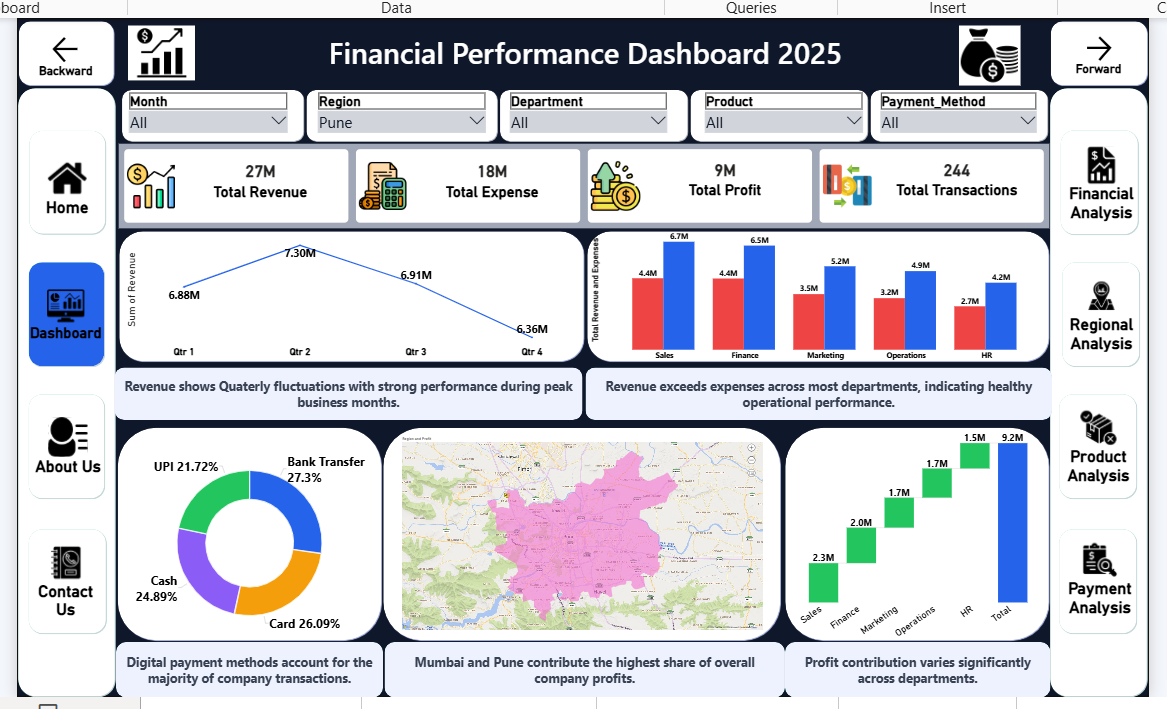

The page's visual inventory and layout, read from the dashboard file:
{"tool":"powerbi","page":{"name":"Dashboard","canvas":[5000,3000],"ordinal":1},"visuals":[{"type":"shape","box":[444,6.6,4122.3,298.2],"z":0},{"type":"shape","box":[0,304.9,437.4,2697.4],"z":1000},{"type":"shape","box":[4559.8,304.9,437.4,2697.4],"z":2000},{"type":"shape","box":[0,6,435.4,298.2],"z":3000},{"type":"shape","box":[4557.1,6,441.4,298.2],"z":4000},{"type":"shape","box":[1623.7,2757.1,1769.6,245.2],"z":5000},{"type":"image","box":[490.9,35.5,295.7,242.5],"z":6000},{"type":"cardVisual","fields":{"Data":["Sum(Finance_dataset.Revenue)","Sum(Finance_dataset.Expense)","Sum(Finance_dataset.Profit)","CountNonNull(Finance_dataset.Transaction_ID)"]},"box":[444,550.1,4122.3,384.4],"z":7000},{"type":"shape","box":[437.4,2757.1,1179.7,245.2],"z":8000},{"type":"shape","box":[430.8,1544.2,2067.8,232],"z":9000},{"type":"shape","box":[1610.5,1802.7,1769.6,954.4],"z":10000},{"type":"shape","box":[444,934.5,2067.8,589.9],"z":11000},{"type":"shape","box":[2511.8,934.5,2054.5,589.9],"z":12000},{"type":"lineChart","fields":{"Y":["Sum(Finance_dataset.Revenue)"],"Category":["Finance_dataset.Date.Variation.Date Hierarchy.Quarter"]},"box":[470.6,947.7,2014.8,550.1],"z":13000},{"type":"clusteredColumnChart","fields":{"Category":["Finance_dataset.Department"],"Y":["Sum(Finance_dataset.Expense)","Sum(Finance_dataset.Revenue)"]},"box":[2525.1,921.2,2047.9,603.1],"z":14000},{"type":"shape","box":[2511.8,1544.2,2061.2,232],"z":15000},{"type":"filledMap","fields":{"Category":["Finance_dataset.Region"],"Series":["Finance_dataset.Profit"]},"box":[1696.7,1849.1,1603.9,861.6],"z":16000},{"type":"shape","box":[437.4,1802.7,1179.7,954.4],"z":17000},{"type":"shape","box":[3393.3,2757.1,1173.1,245.2],"z":18000},{"type":"shape","box":[3386.7,1802.7,1179.7,954.4],"z":19000},{"type":"donutChart","fields":{"Category":["Finance_dataset.Payment_Method"],"Y":["Sum(Finance_dataset.Revenue)"]},"box":[510.3,1822.6,1033.9,994.1],"z":20000},{"type":"waterfallChart","fields":{"Category":["Finance_dataset.Department"],"Y":["Sum(Finance_dataset.Profit)"]},"box":[3426.4,1802.7,1113.4,954.4],"z":21000},{"type":"shape","box":[457.3,311.5,815.2,238.6],"z":22000},{"type":"shape","box":[1272.5,311.5,855,238.6],"z":23000},{"type":"shape","box":[2127.4,311.5,841.7,238.6],"z":24000},{"type":"shape","box":[2969.1,311.5,795.3,238.6],"z":25000},{"type":"shape","box":[3764.4,311.5,795.3,238.6],"z":26000},{"type":"slicer","fields":{"Values":["Finance_dataset.Date.Variation.Date Hierarchy.Month"]},"box":[483.8,324.7,722.4,225.3],"z":27000},{"type":"slicer","fields":{"Values":["Finance_dataset.Region"]},"box":[1320.9,322.9,763.2,227.5],"z":28000},{"type":"slicer","fields":{"Values":["Finance_dataset.Department"]},"box":[2167.2,324.7,715.8,232],"z":29000},{"type":"slicer","fields":{"Values":["Finance_dataset.Product"]},"box":[3030.8,322.9,719.2,242.2],"z":30000},{"type":"slicer","fields":{"Values":["Finance_dataset.Payment_Method"]},"box":[3801.4,322.9,711.8,242.2],"z":31000},{"type":"image","box":[4162.1,33.1,271.7,265.1],"z":32000},{"type":"textbox","box":[1206.2,59.6,2611.3,198.8],"z":33000},{"type":"actionButton","box":[33.1,19.9,364.5,245.2],"z":34000},{"type":"actionButton","box":[4606.1,19.9,344.6,238.6],"z":35000},{"type":"shape","box":[46.4,1073.7,344.6,470.6],"z":36000},{"type":"shape","box":[46.4,490.4,351.3,470.6],"z":37000},{"type":"actionButton","box":[46.4,563.3,351.3,371.1],"z":38000},{"type":"shape","box":[46.4,2253.4,351.3,470.6],"z":39000},{"type":"shape","box":[46.4,1656.9,344.6,470.6],"z":40000},{"type":"actionButton","box":[46.4,1073.7,338,470.6],"z":41000},{"type":"actionButton","box":[46.4,1656.9,357.9,470.6],"z":42000},{"type":"actionButton","box":[46.4,2253.4,338,470.6],"z":43000},{"type":"shape","box":[4606.1,490.4,351.3,470.6],"z":44000},{"type":"shape","box":[4612.8,1073.7,351.3,470.6],"z":45000},{"type":"shape","box":[4599.5,1656.9,351.3,470.6],"z":46000},{"type":"shape","box":[4599.5,2253.4,351.3,470.6],"z":47000},{"type":"actionButton","box":[4619.4,497.1,344.6,470.6],"z":48000},{"type":"actionButton","box":[4619.4,1073.7,344.6,470.6],"z":49000},{"type":"actionButton","box":[4606.1,1656.9,344.6,470.6],"z":50000},{"type":"actionButton","box":[4612.8,2240.1,344.6,470.6],"z":51000}]}

Visuals, with their boxes on the page's 5000x3000 design canvas (x1, y1, x2, y2). These are canvas units, not pixel positions in the 1167x709 screenshot, which may show the page scaled, cropped or inside an application window:
shape: rect(444, 7, 4566, 305)
shape: rect(0, 305, 437, 3002)
shape: rect(4560, 305, 4997, 3002)
shape: rect(0, 6, 435, 304)
shape: rect(4557, 6, 4998, 304)
shape: rect(1624, 2757, 3393, 3002)
image: rect(491, 36, 787, 278)
cardVisual - Sum(Finance_dataset.Revenue) x Sum(Finance_dataset.Expense): rect(444, 550, 4566, 934)
shape: rect(437, 2757, 1617, 3002)
shape: rect(431, 1544, 2499, 1776)
shape: rect(1610, 1803, 3380, 2757)
shape: rect(444, 934, 2512, 1524)
shape: rect(2512, 934, 4566, 1524)
lineChart - Sum(Finance_dataset.Revenue) x Finance_dataset.Date.Variation.Date Hierarchy.Quarter: rect(471, 948, 2485, 1498)
clusteredColumnChart - Finance_dataset.Department x Sum(Finance_dataset.Expense): rect(2525, 921, 4573, 1524)
shape: rect(2512, 1544, 4573, 1776)
filledMap - Finance_dataset.Region x Finance_dataset.Profit: rect(1697, 1849, 3301, 2711)
shape: rect(437, 1803, 1617, 2757)
shape: rect(3393, 2757, 4566, 3002)
shape: rect(3387, 1803, 4566, 2757)
donutChart - Finance_dataset.Payment_Method x Sum(Finance_dataset.Revenue): rect(510, 1823, 1544, 2817)
waterfallChart - Finance_dataset.Department x Sum(Finance_dataset.Profit): rect(3426, 1803, 4540, 2757)
shape: rect(457, 312, 1272, 550)
shape: rect(1272, 312, 2128, 550)
shape: rect(2127, 312, 2969, 550)
shape: rect(2969, 312, 3764, 550)
shape: rect(3764, 312, 4560, 550)
slicer - Finance_dataset.Date.Variation.Date Hierarchy.Month: rect(484, 325, 1206, 550)
slicer - Finance_dataset.Region: rect(1321, 323, 2084, 550)
slicer - Finance_dataset.Department: rect(2167, 325, 2883, 557)
slicer - Finance_dataset.Product: rect(3031, 323, 3750, 565)
slicer - Finance_dataset.Payment_Method: rect(3801, 323, 4513, 565)
image: rect(4162, 33, 4434, 298)
textbox: rect(1206, 60, 3818, 258)
actionButton: rect(33, 20, 398, 265)
actionButton: rect(4606, 20, 4951, 258)
shape: rect(46, 1074, 391, 1544)
shape: rect(46, 490, 398, 961)
actionButton: rect(46, 563, 398, 934)
shape: rect(46, 2253, 398, 2724)
shape: rect(46, 1657, 391, 2128)
actionButton: rect(46, 1074, 384, 1544)
actionButton: rect(46, 1657, 404, 2128)
actionButton: rect(46, 2253, 384, 2724)
shape: rect(4606, 490, 4957, 961)
shape: rect(4613, 1074, 4964, 1544)
shape: rect(4600, 1657, 4951, 2128)
shape: rect(4600, 2253, 4951, 2724)
actionButton: rect(4619, 497, 4964, 968)
actionButton: rect(4619, 1074, 4964, 1544)
actionButton: rect(4606, 1657, 4951, 2128)
actionButton: rect(4613, 2240, 4957, 2711)
